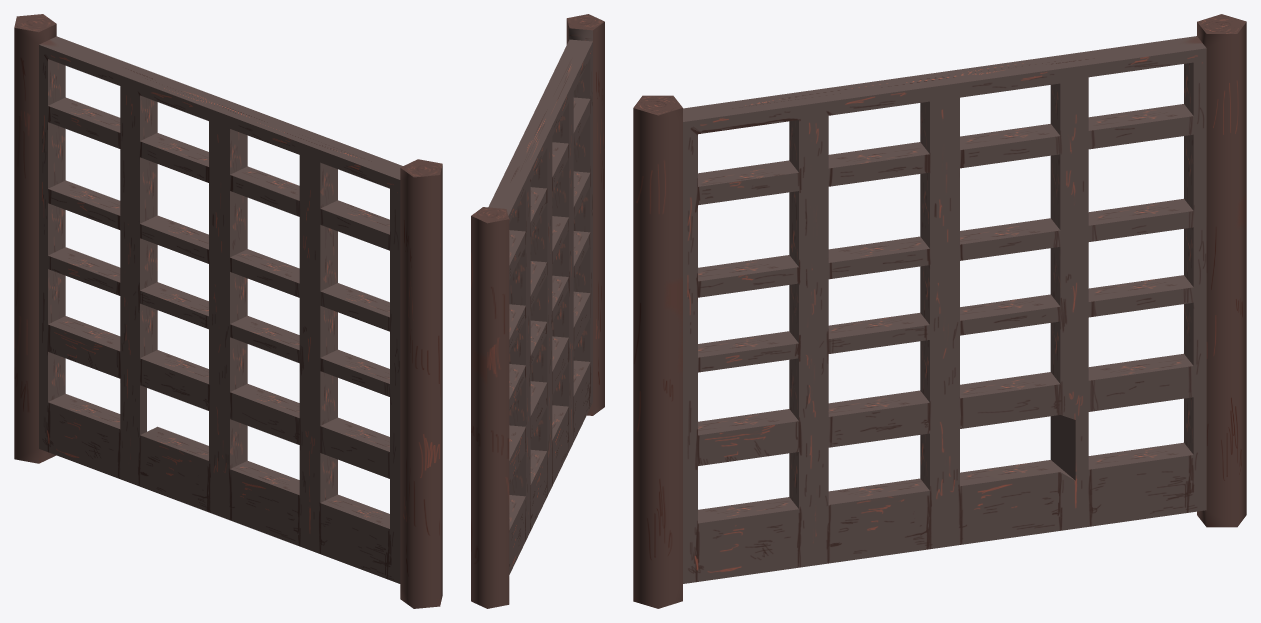
Rendered from fencetextured.FBX.
The picture shows the model from 3 angles, left to right: view 1: azimuth 30°, elevation 25°; view 2: azimuth 150°, elevation 25°; view 3: azimuth 270°, elevation 25°; orthographic projection. The views are drawn at different scales.
Visible parts, largest first — view 1: Cylinder001; view 2: Cylinder001; view 3: Cylinder001.
Boxes of the visible parts, box(x1,y1,x2,y2) form: Cylinder001: box(14, 14, 442, 608); Cylinder001: box(471, 14, 604, 608); Cylinder001: box(633, 14, 1246, 608).
Size of the model in its own units: 15.44 by 34.96 by 39.41.
Materials: 1 (1 with a texture image).
